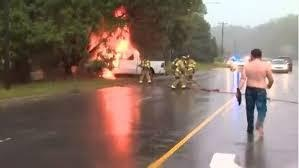fire: (83, 8, 145, 80)
